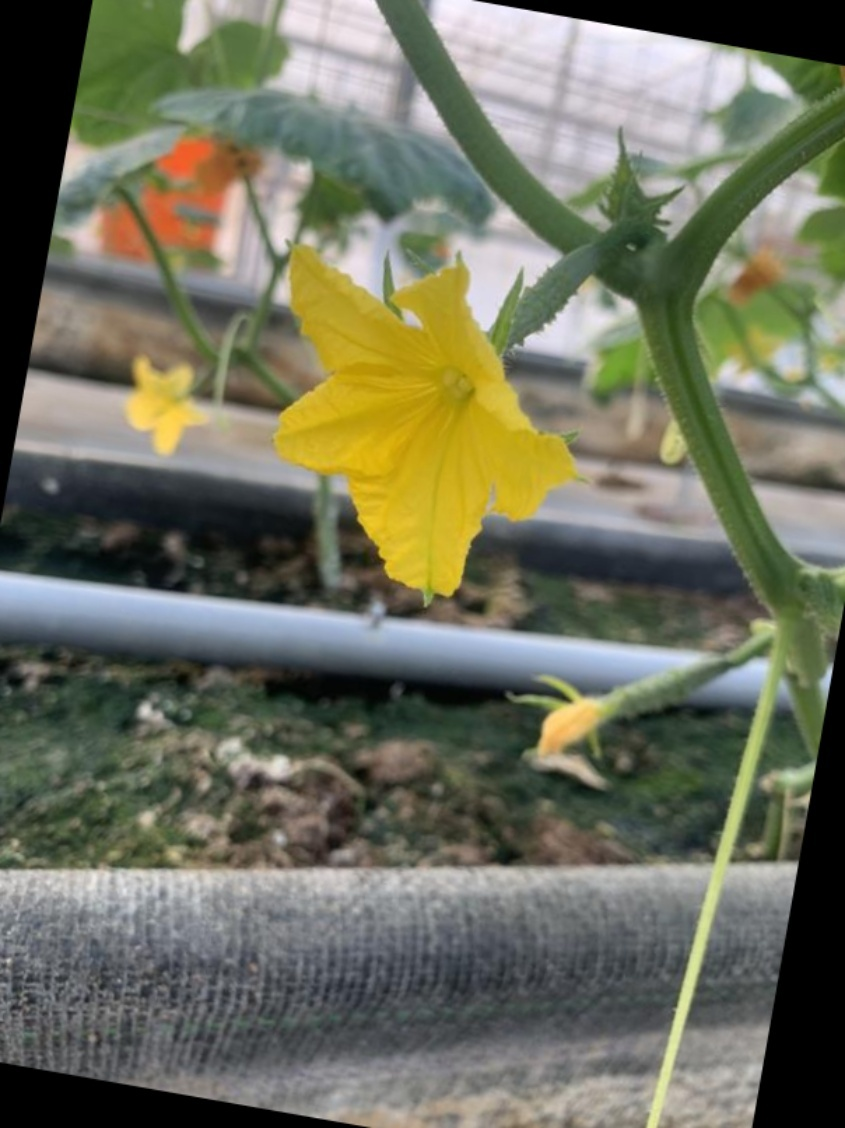mature: (257, 190, 652, 614)
